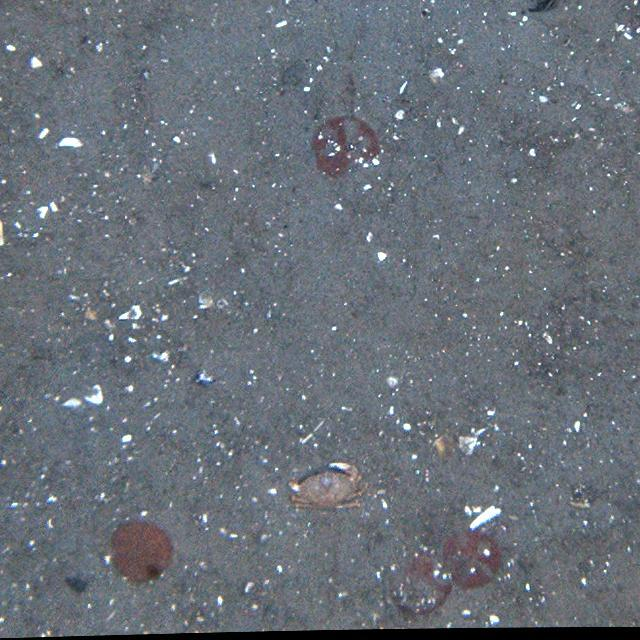crab: (288, 459, 372, 514)
